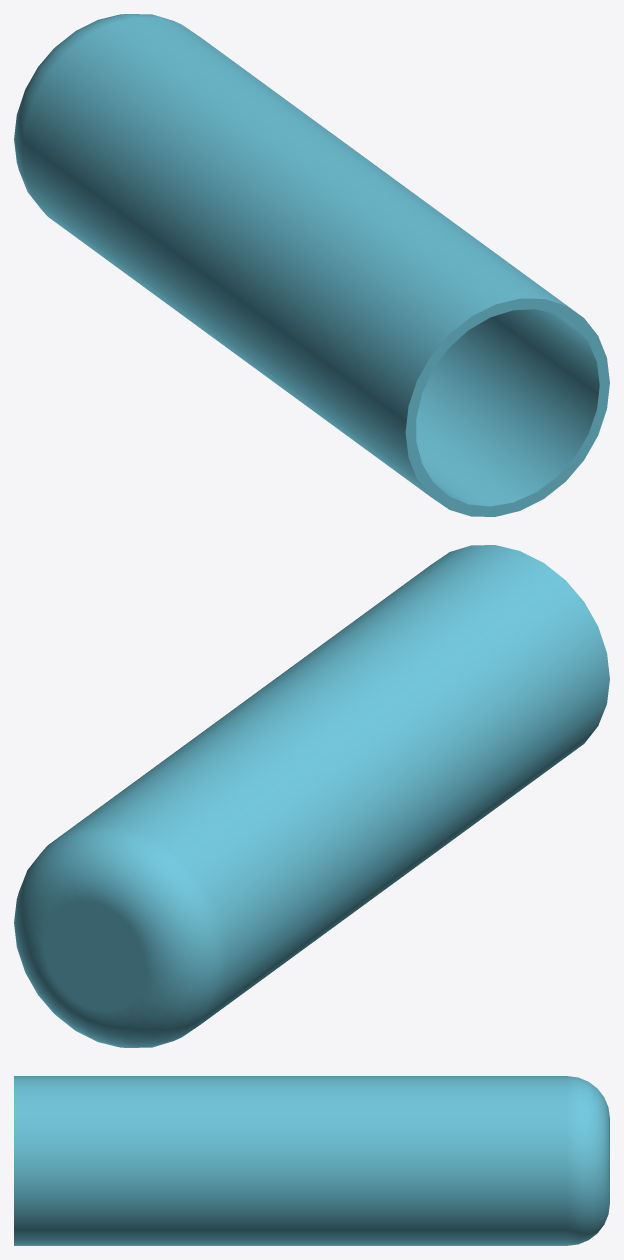
3 renders of one model, top to bottom at view 1: azimuth 30°, elevation 25°; view 2: azimuth 150°, elevation 25°; view 3: azimuth 270°, elevation 25°, orthographic. The views are drawn at different scales.
Visible parts, largest first — view 1: Body1; view 2: Body1; view 3: Body1.
Boxes of the visible parts, box(x1,y1,x2,y2) form: Body1: box(14, 14, 609, 516); Body1: box(14, 545, 609, 1047); Body1: box(14, 1076, 609, 1245).
Bounding box in the file's own units: 2 × 1.99 × 7.
